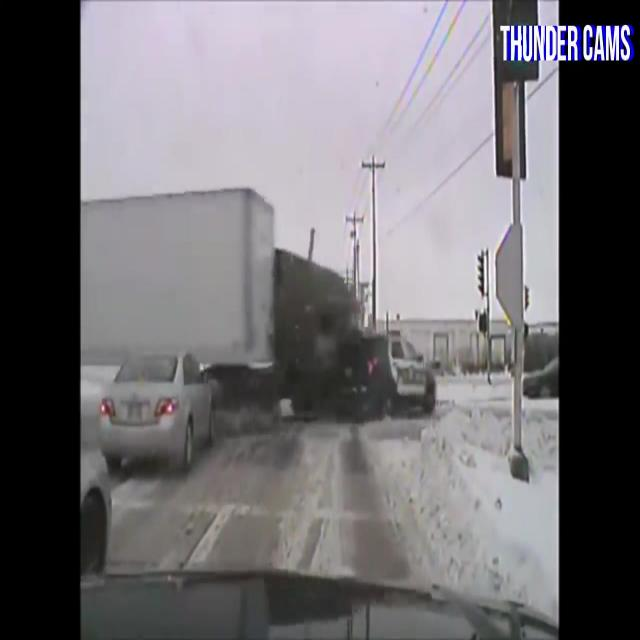accident: (314, 275, 444, 451)
